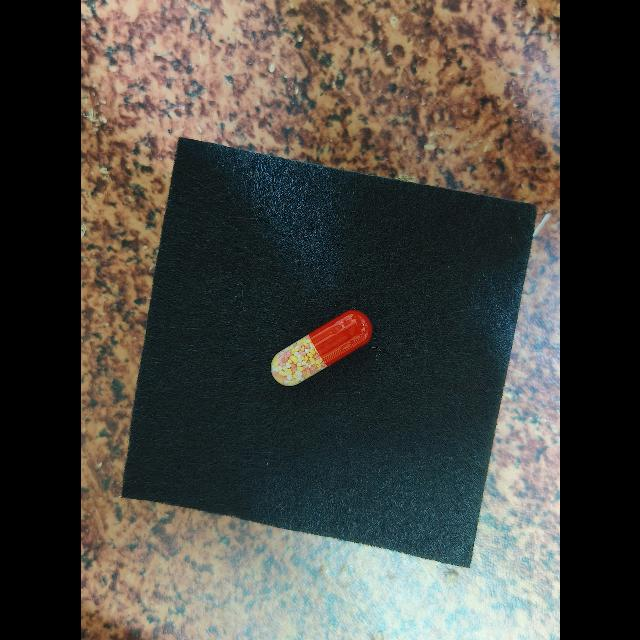Intact Capsule: (270, 310, 372, 386)
